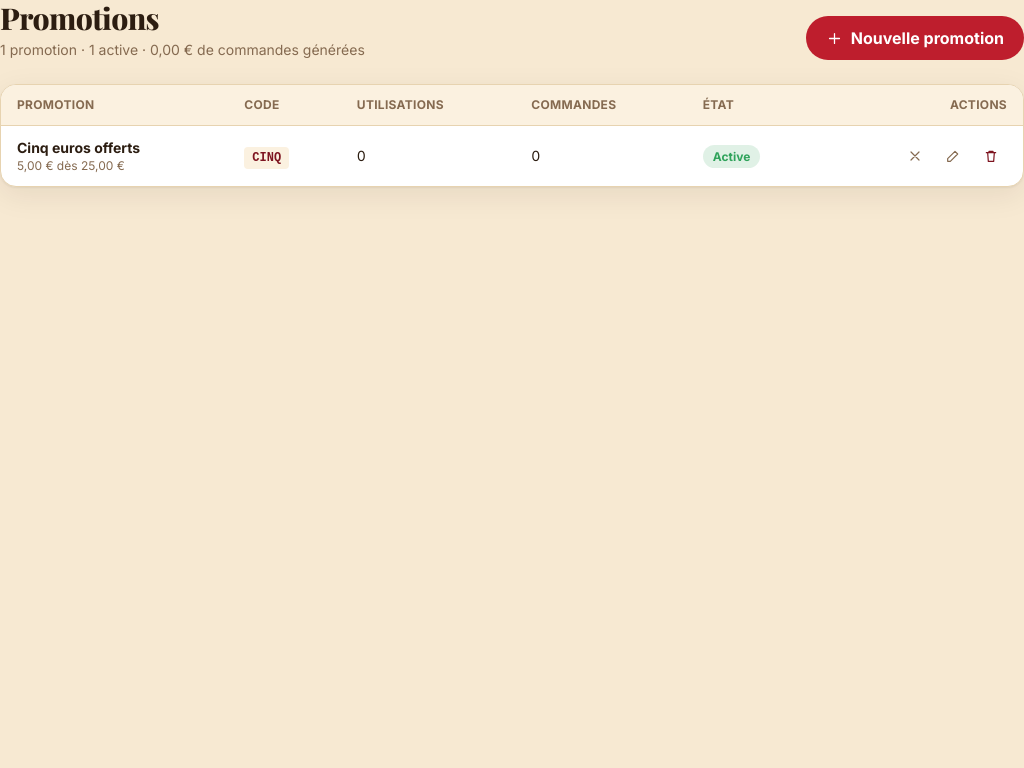
Scenario: Promotions — un champ de montant vidé pour être retapé › se refuse explicitement au lieu de valoir zéro
The image size is (1024, 768).
Click the button named "Modifier": (953, 156) [937, 140, 969, 172]
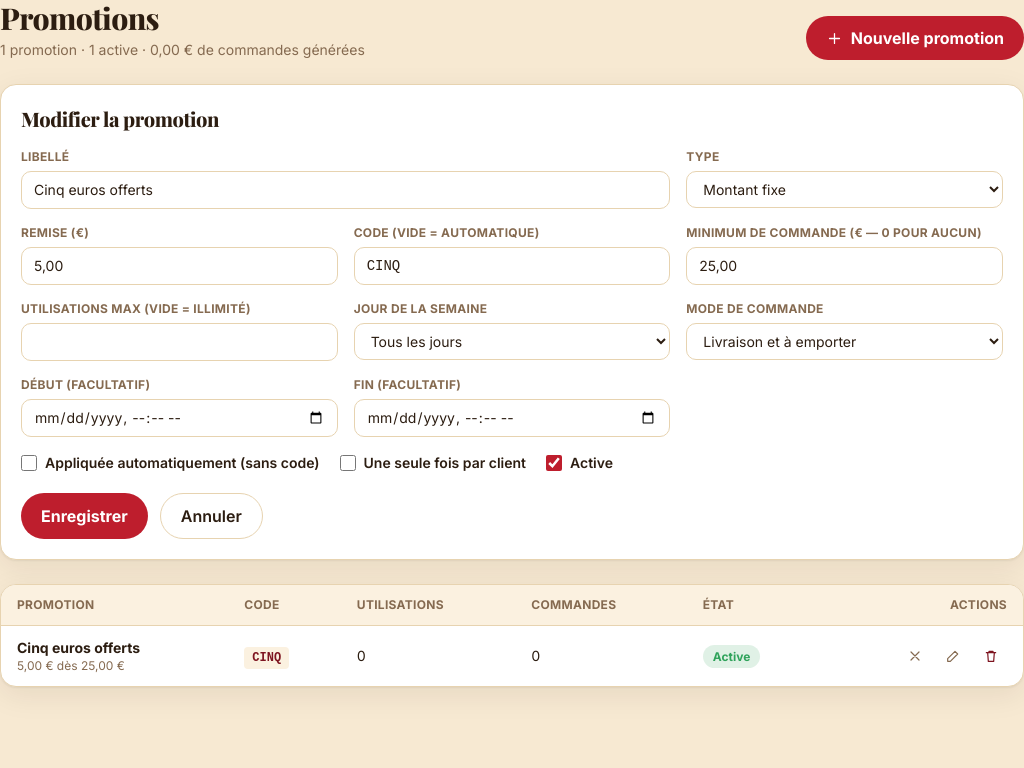
Clear the field with placeholder "25,00": (845, 266) [686, 247, 1003, 285]
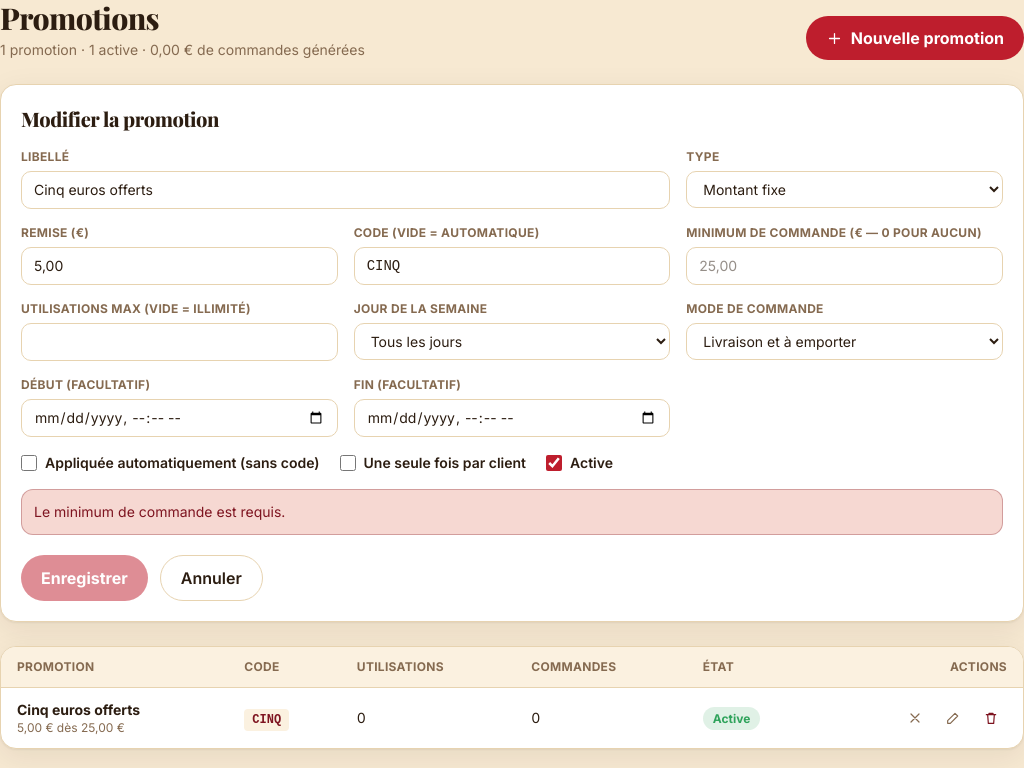
Expected: the text "Le minimum de commande est requis." is shown, [21, 489, 1003, 535]
Expected: the button "Enregistrer" is disabled, [21, 555, 148, 601]
